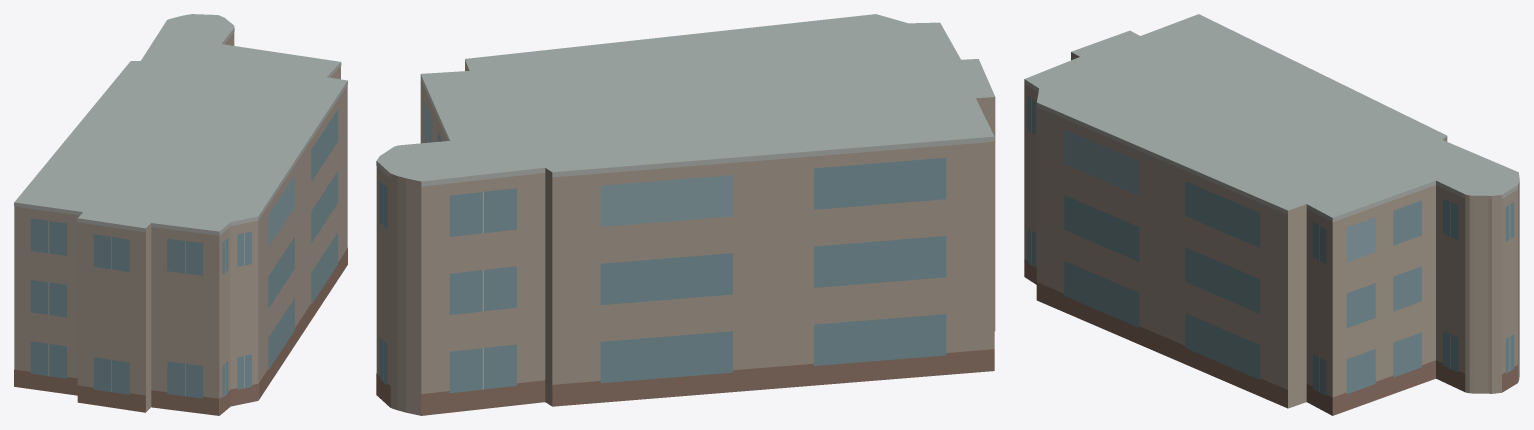
The model's file is survey-upis-32864686.glb.
3 views of the same model, side by side, from view 1: azimuth 30°, elevation 25°; view 2: azimuth 150°, elevation 25°; view 3: azimuth 270°, elevation 25° (orthographic). The views are drawn at different scales.
Parts seen in each view (by area): view 1: survey-upis-32864686.tmp; view 2: survey-upis-32864686.tmp; view 3: survey-upis-32864686.tmp.
Boxes of the visible parts, x1,y1,x2,y2 form: survey-upis-32864686.tmp: (14, 14, 347, 415); survey-upis-32864686.tmp: (376, 14, 995, 415); survey-upis-32864686.tmp: (1024, 14, 1519, 415).
Size of the model in its own units: 24.69 by 11.17 by 25.33.
